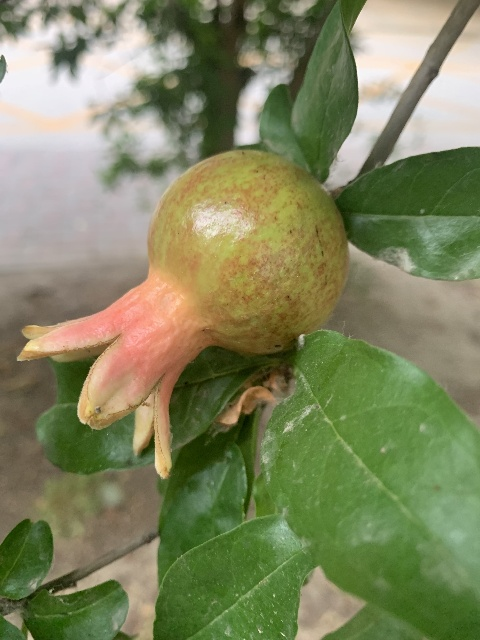early-fruit: (14, 147, 344, 476)
